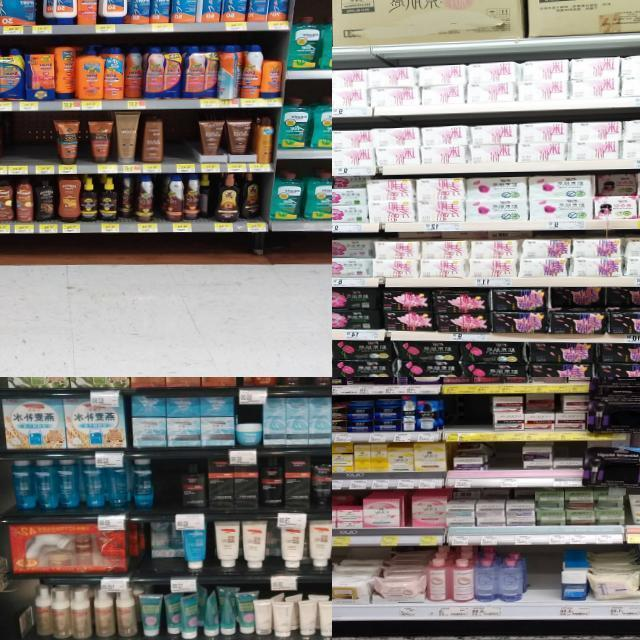Imprecise: (548, 288, 640, 339), (141, 514, 181, 572), (593, 176, 640, 221), (330, 238, 376, 278), (333, 178, 370, 221), (239, 170, 269, 218), (114, 170, 138, 222), (198, 169, 222, 218), (524, 396, 554, 433)
